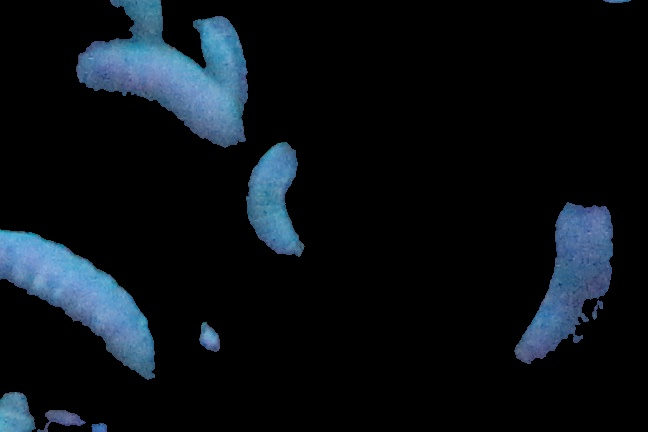larvae: (1, 227, 163, 396), (76, 40, 250, 167), (507, 189, 614, 382), (243, 142, 305, 253), (196, 7, 245, 102)
